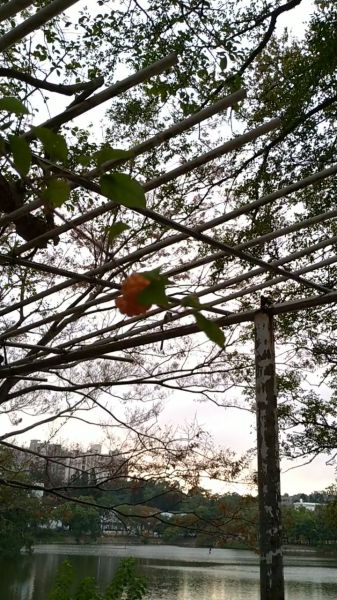eggs: (111, 267, 156, 318)
